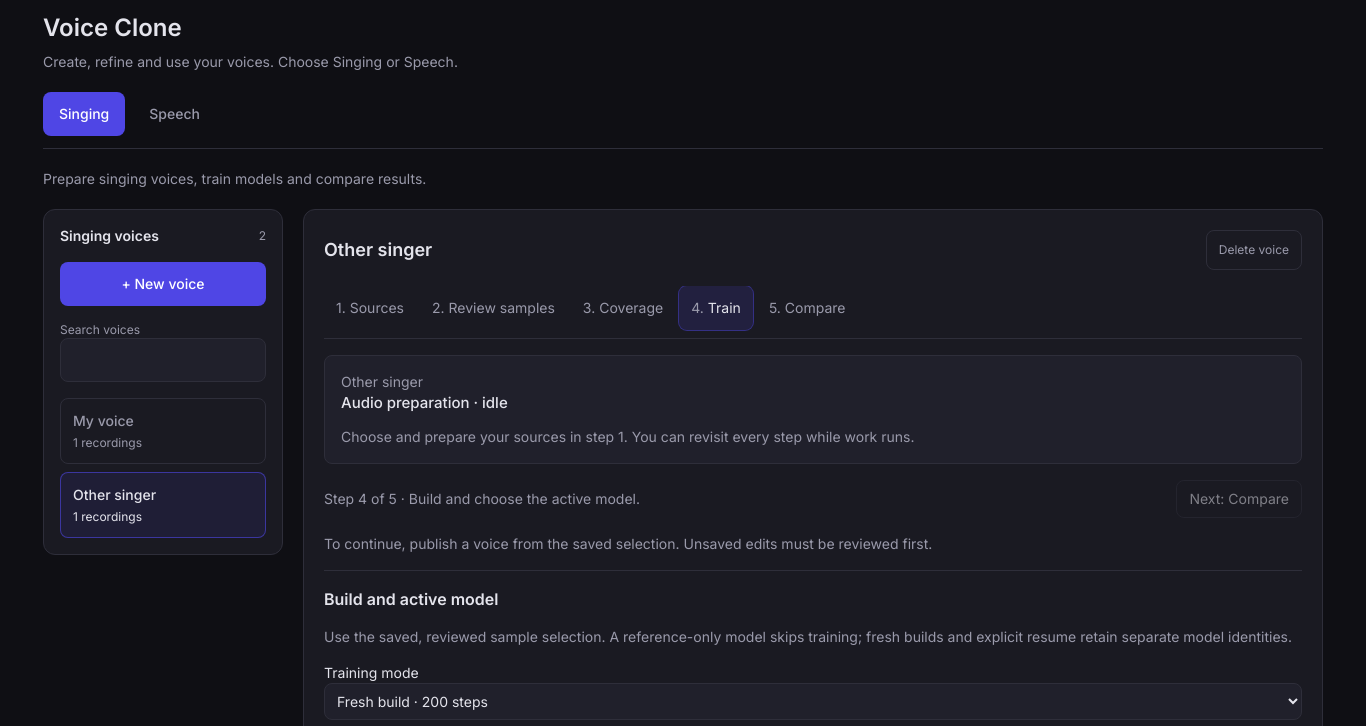
Test case: retains the singer and training stage when switching voice modes after a bare Audiobook round trip
Click the tab with aria-label "Speech": (175, 114) top-left (133, 92), bottom-right (216, 136)
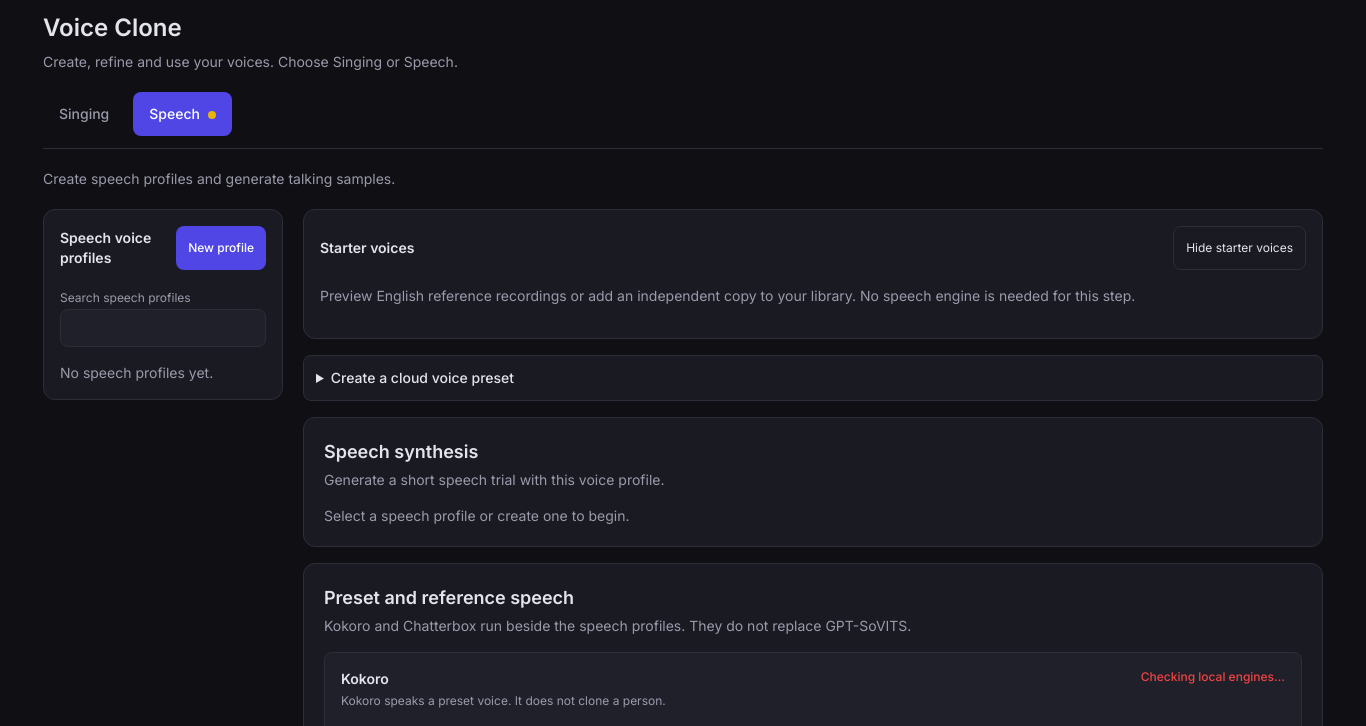
Click the tab with aria-label "Singing": (84, 114) top-left (43, 92), bottom-right (125, 136)
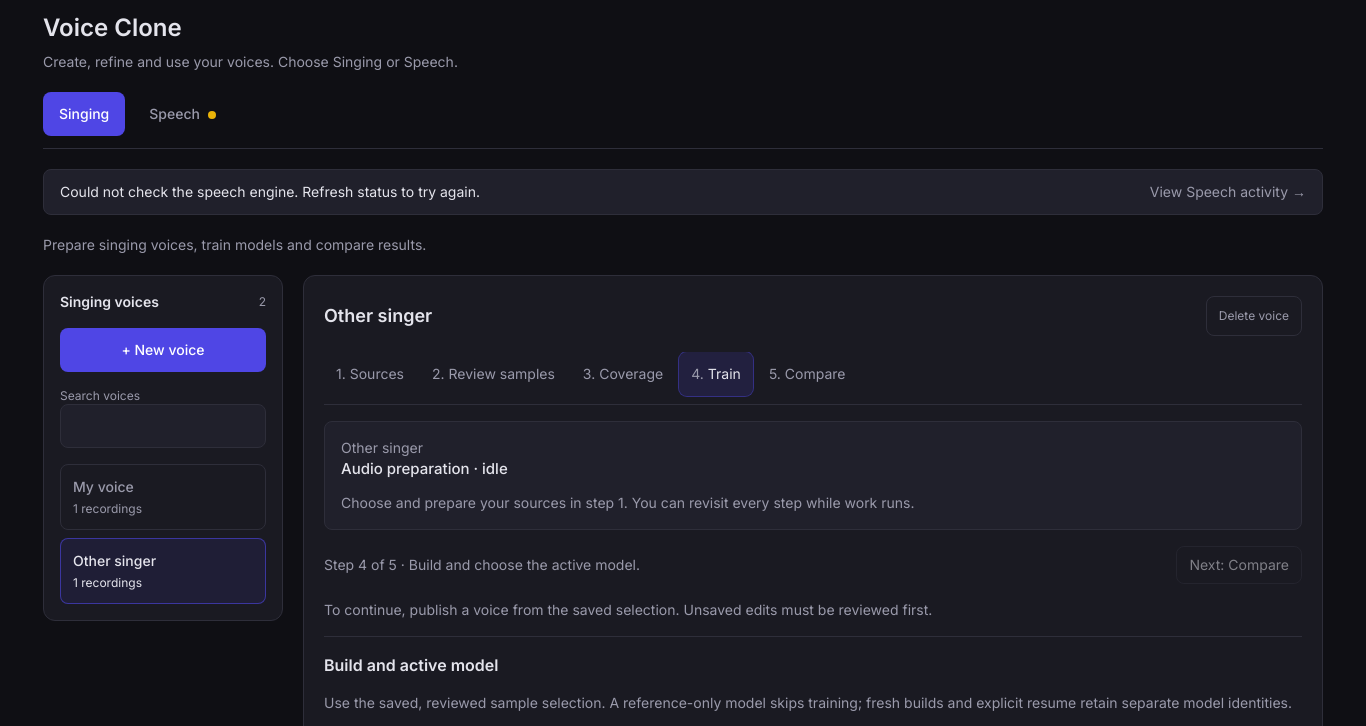
expect the heading "Other singer" is shown: met, box top-left (324, 305), bottom-right (432, 326)
